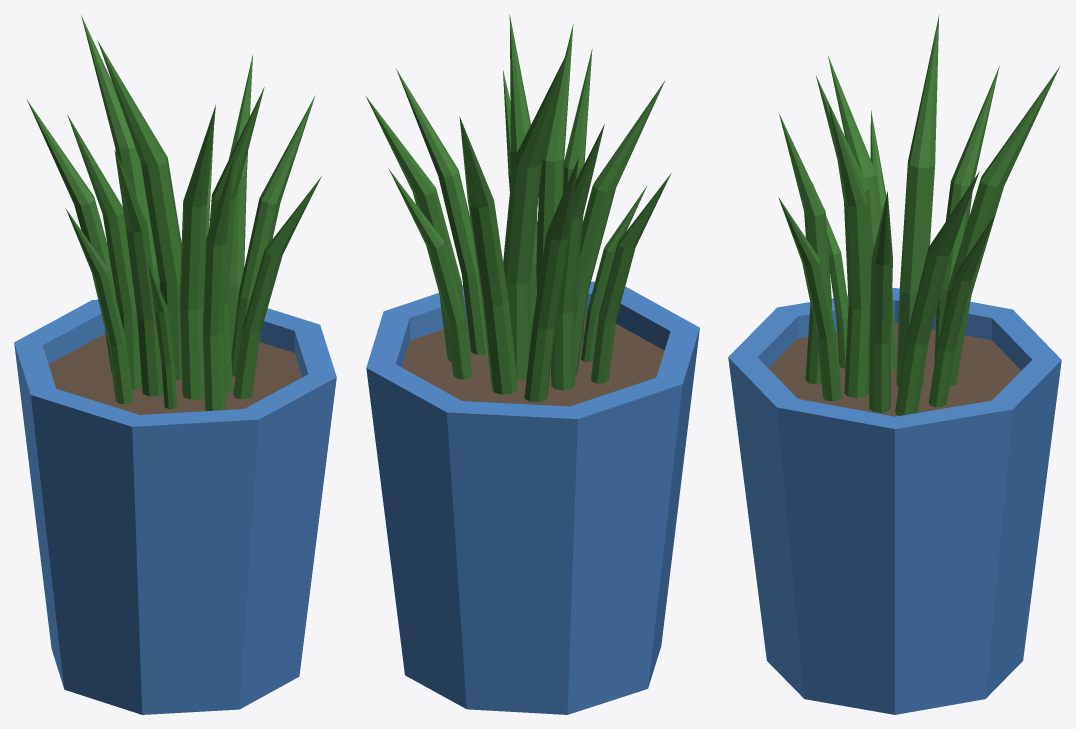
Rendered from Flower_33.fbx.
3 views of the same model, side by side, from view 1: azimuth 30°, elevation 25°; view 2: azimuth 150°, elevation 25°; view 3: azimuth 270°, elevation 25° (orthographic). The views are drawn at different scales.
Visible parts, largest first — view 1: Flower_33; view 2: Flower_33; view 3: Flower_33.
Boxes of the visible parts, <box> form: Flower_33: <box>14,15,336,714</box>; Flower_33: <box>366,14,699,714</box>; Flower_33: <box>728,14,1061,714</box>.
Size of the model in its own units: 17.15 by 17.15 by 35.15.
